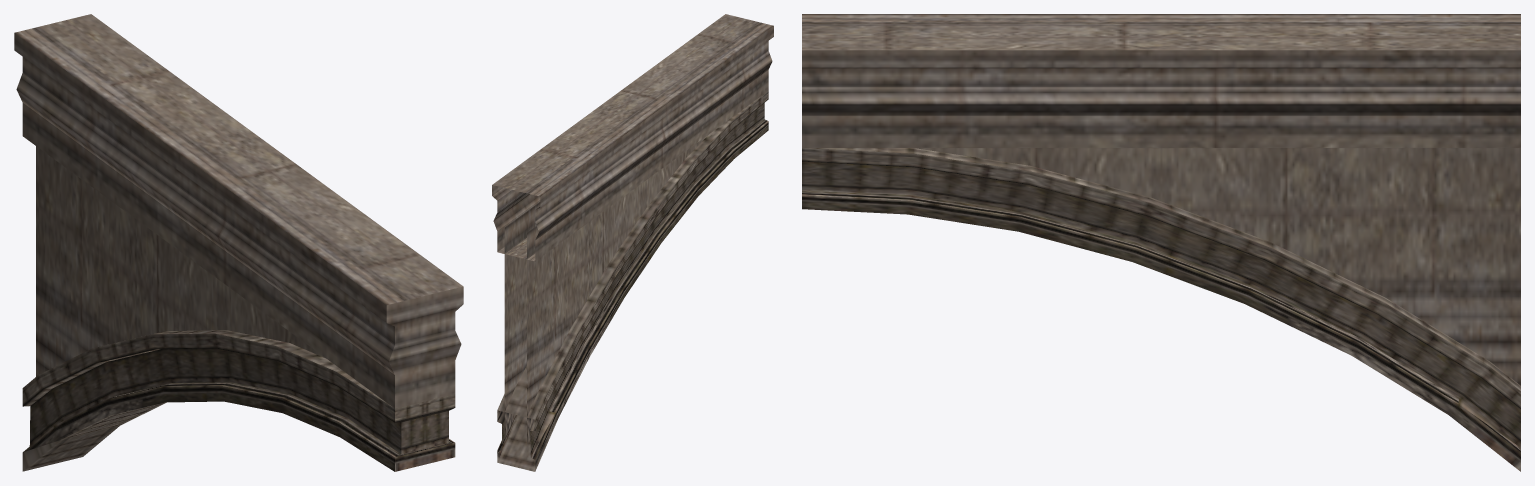
Rendered from SM_zhucheng_Buttress_02.FBX.
3 renders of one model, left to right at view 1: azimuth 30°, elevation 25°; view 2: azimuth 150°, elevation 25°; view 3: azimuth 270°, elevation 25°, orthographic. The views are drawn at different scales.
Parts seen in each view (by area): view 1: SM_zhucheng_Buttress_02; view 2: SM_zhucheng_Buttress_02; view 3: SM_zhucheng_Buttress_02.
Part boxes in pixels (left/top/right/bottom): SM_zhucheng_Buttress_02: left=14, top=14, right=463, bottom=471; SM_zhucheng_Buttress_02: left=492, top=14, right=773, bottom=471; SM_zhucheng_Buttress_02: left=802, top=14, right=1520, bottom=471.
Bounding box in the file's own units: 24.02 × 132 × 202.
